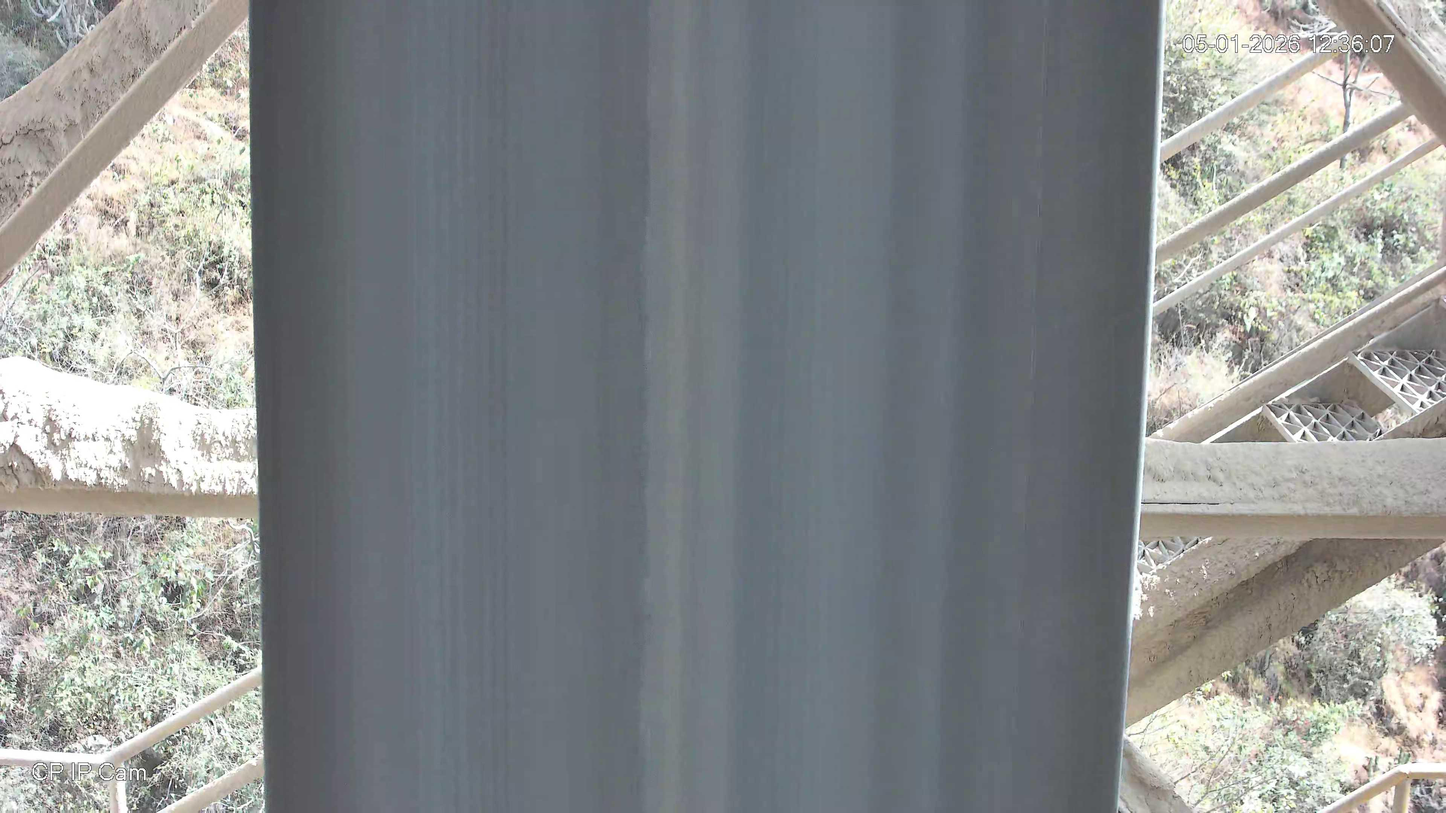belt_roi: (248, 1, 1159, 813)
